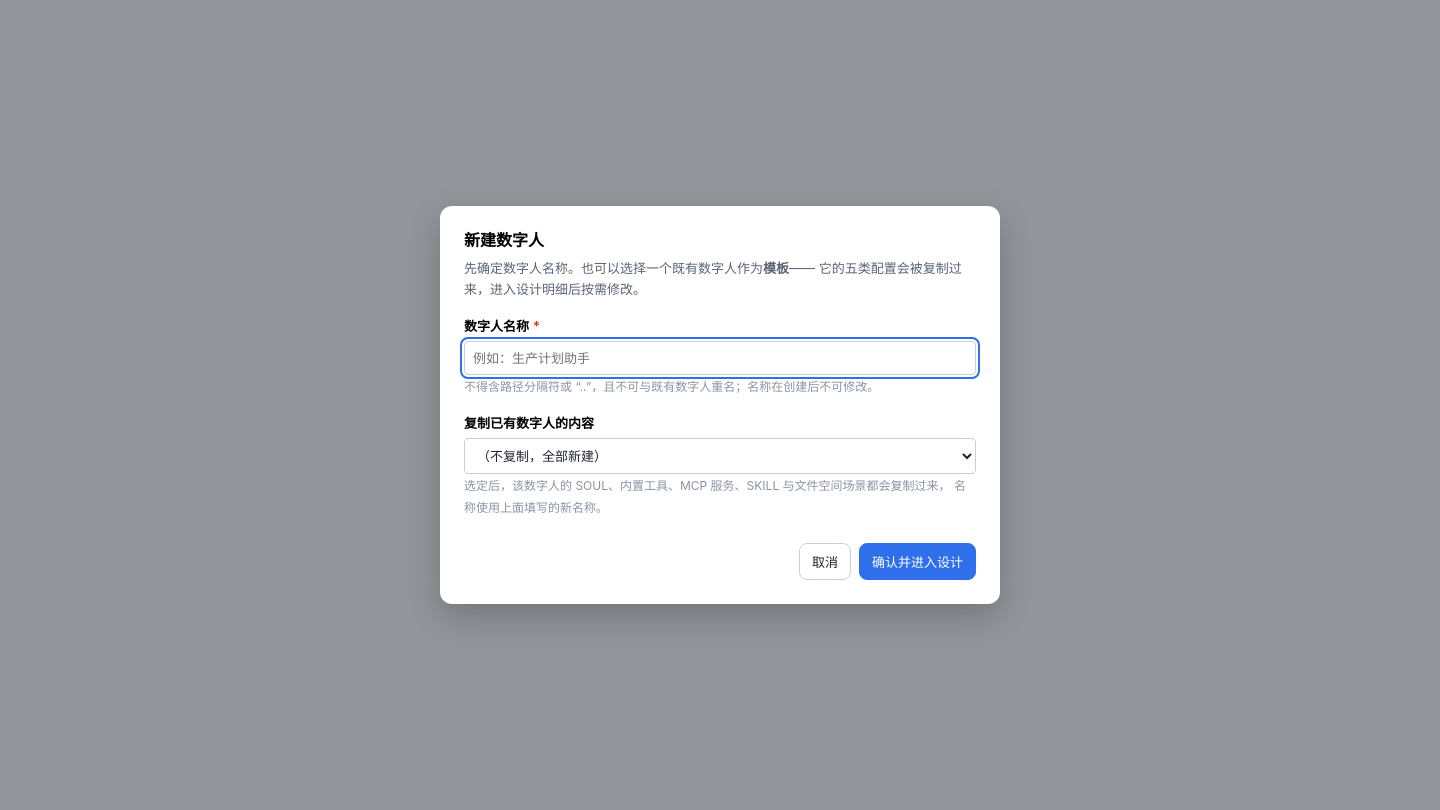
Test case: CreateAgentDialog —— 名称必填与合法性（FR-015） › 非法名（含分隔符）被拒绝并说明原因
Type "a/b" into the field with test id "create-agent-name" at (720, 358), box 464,341 -> 976,375
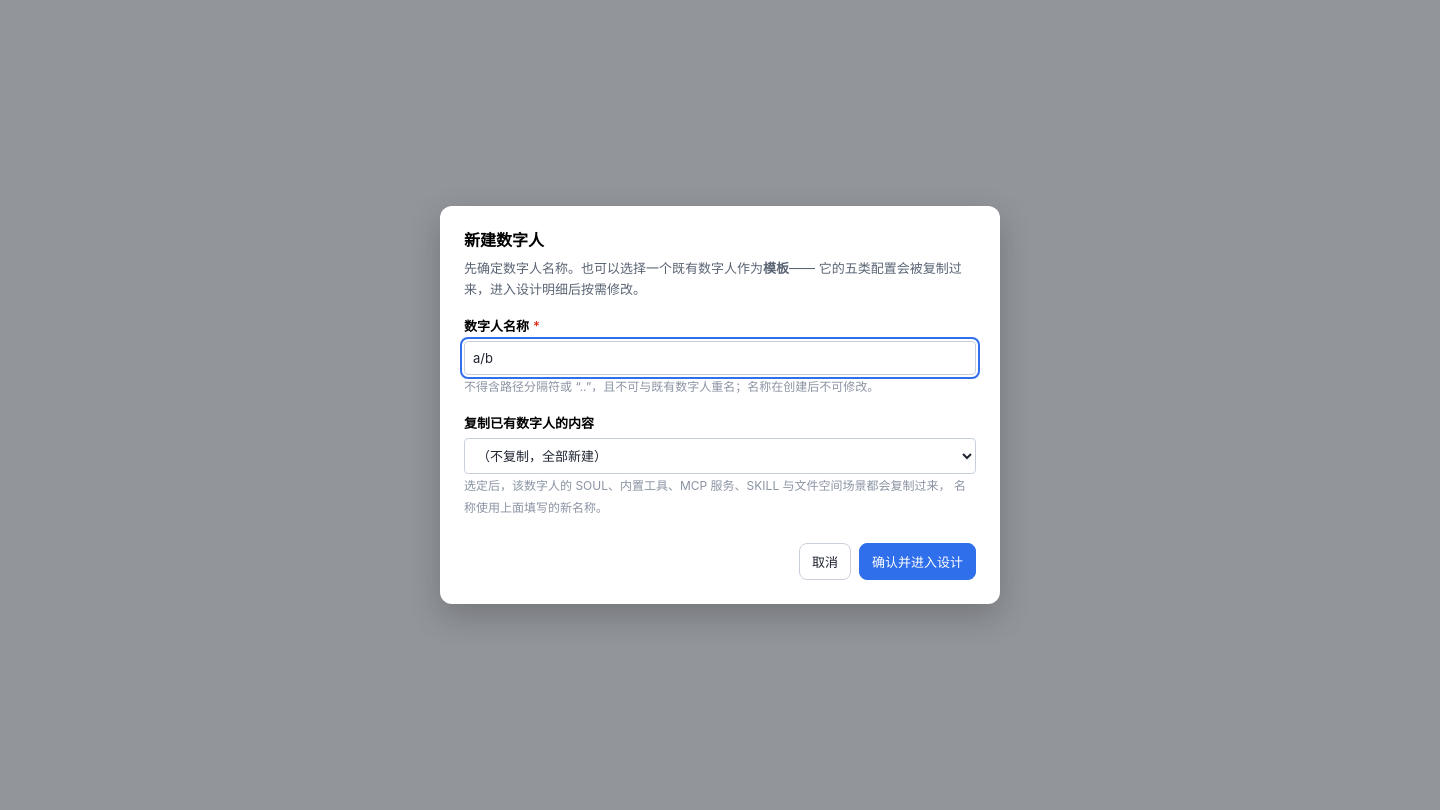
Click the button with test id "confirm" at (918, 561), box 859,543 -> 976,580
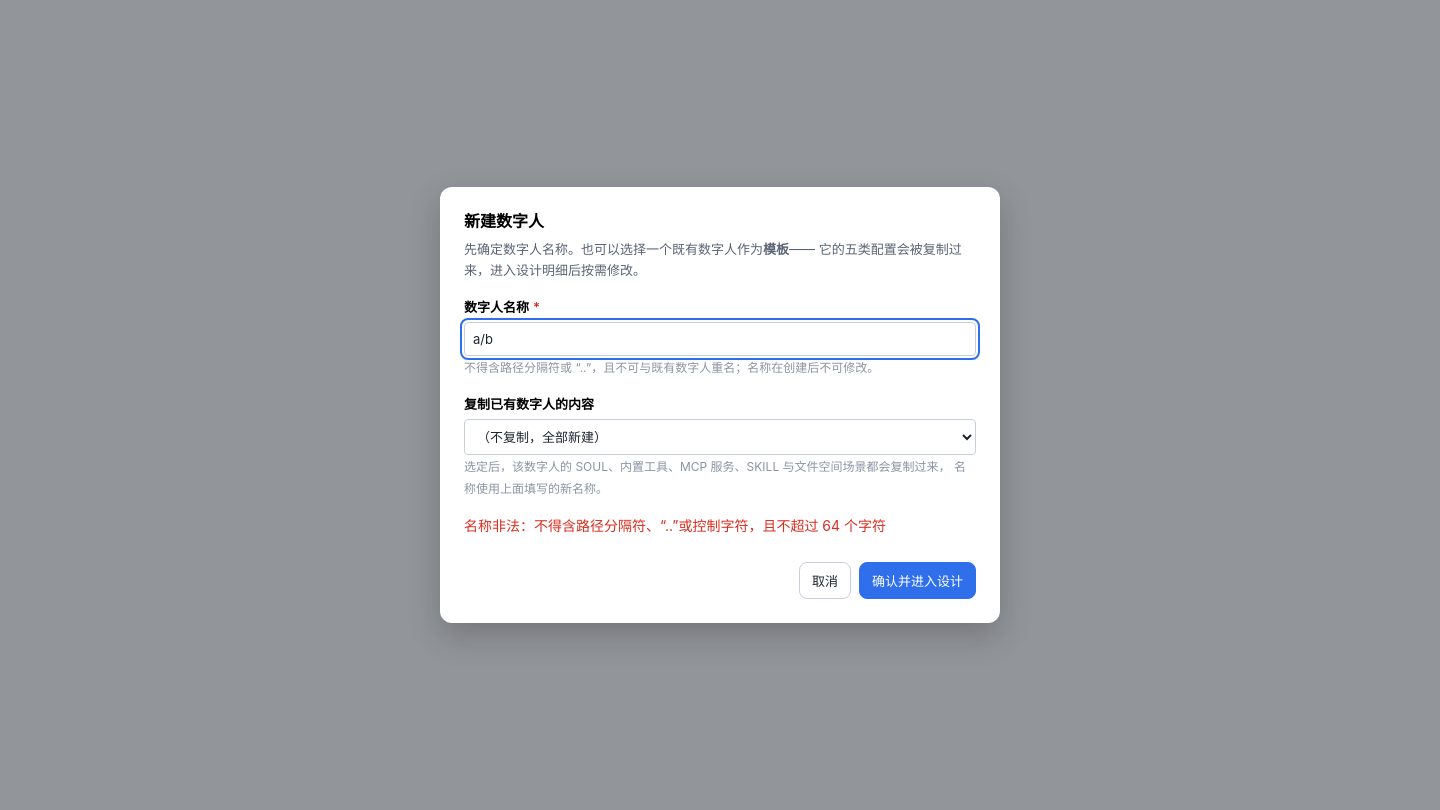
Now the message with test id "create-agent-error" shows "名称非法", box 464,518 -> 886,534
